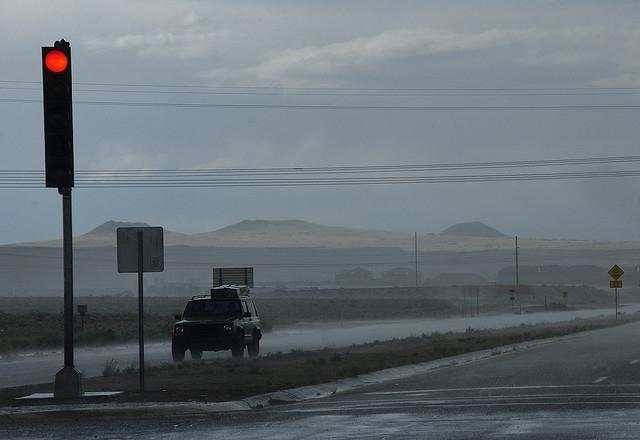car: (171, 282, 263, 362)
